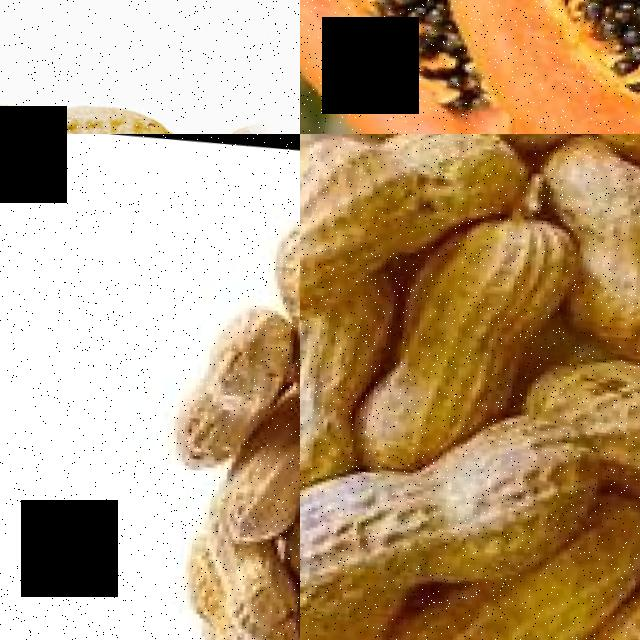pawpaw: (300, 0, 457, 134), (487, 0, 640, 134)
peanuts: (377, 395, 607, 586), (402, 206, 585, 390), (173, 297, 300, 468), (300, 454, 413, 640), (300, 134, 399, 325), (555, 144, 640, 344), (352, 134, 531, 224), (0, 64, 211, 134), (300, 313, 376, 470), (220, 535, 300, 640), (218, 447, 300, 537), (595, 341, 640, 491), (267, 198, 300, 313)
